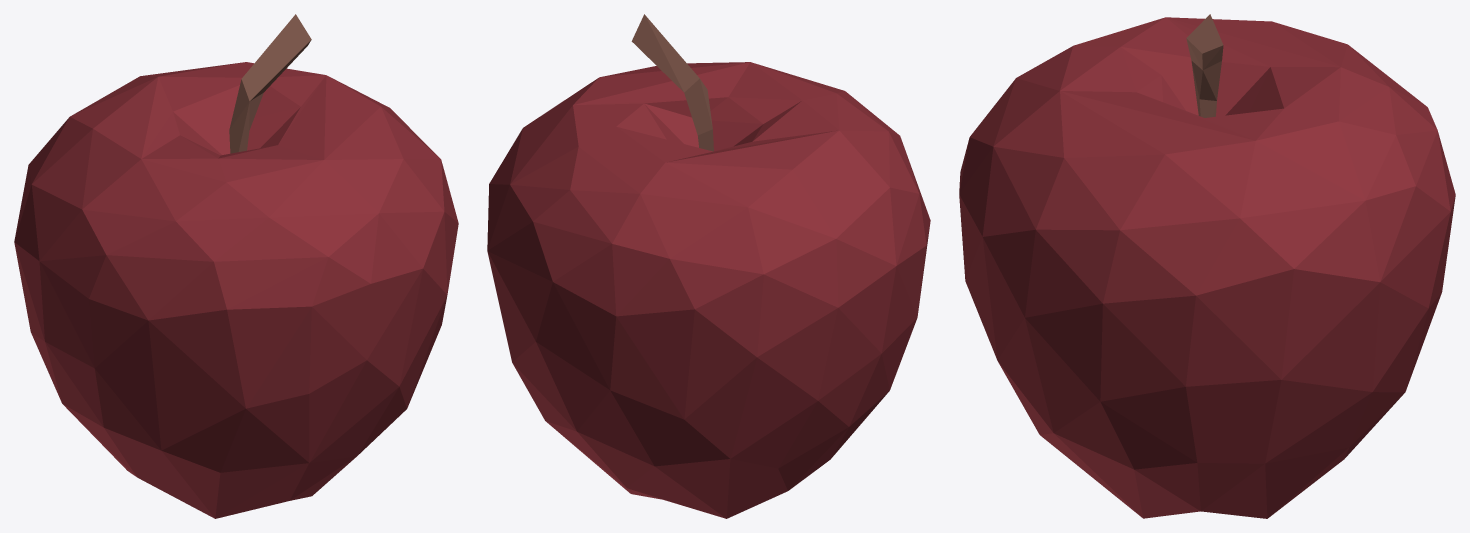
Rendered from fantasy_food_apple.fbx.
The picture shows the model from 3 angles, left to right: view 1: azimuth 30°, elevation 25°; view 2: azimuth 150°, elevation 25°; view 3: azimuth 270°, elevation 25°; orthographic projection. The views are drawn at different scales.
Parts seen in each view (by area): view 1: Cylinder.022; view 2: Cylinder.022; view 3: Cylinder.022.
Boxes of the visible parts, x1,y1,x2,y2 form: Cylinder.022: (14, 14, 458, 518); Cylinder.022: (487, 14, 930, 518); Cylinder.022: (959, 14, 1455, 518).
Size of the model in its own units: 10.65 by 12.09 by 10.62.
